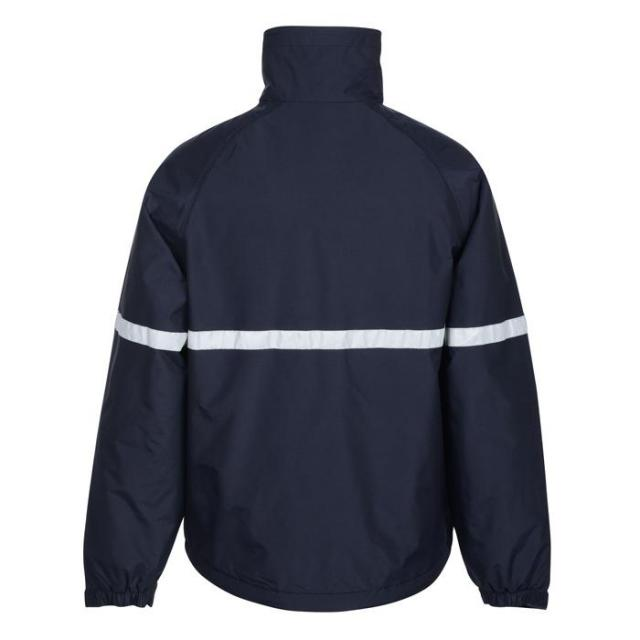Reflective-Jacket: (74, 21, 600, 640)
